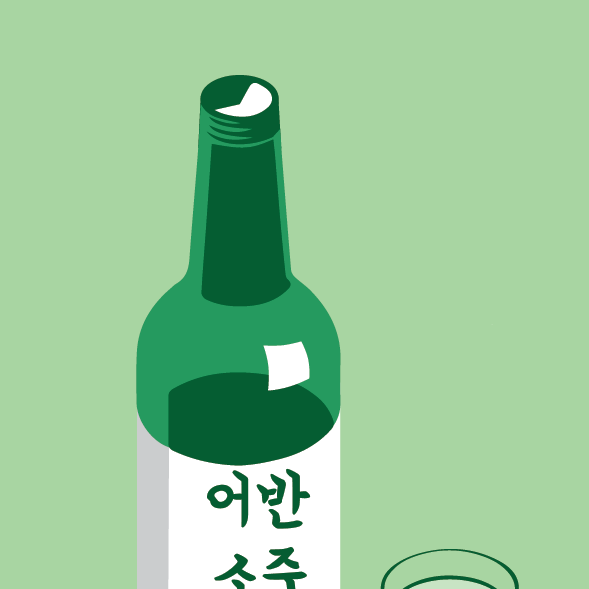soju: (130, 72, 347, 589)
